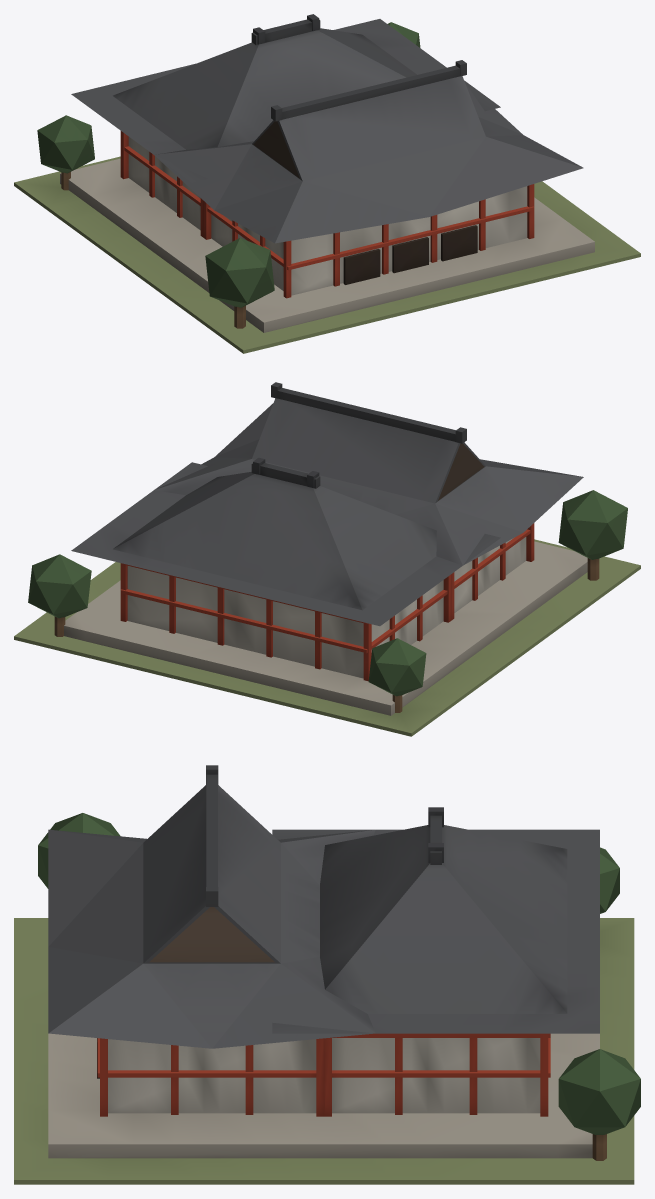
Rendered from hokkedo.glb.
3 renders of one model, top to bottom at view 1: azimuth 30°, elevation 25°; view 2: azimuth 150°, elevation 25°; view 3: azimuth 270°, elevation 25°, orthographic. The views are drawn at different scales.
Parts seen in each view (by area): view 1: p2_roofs, p0_grounds, p1_halls; view 2: p2_roofs, p0_grounds, p1_halls; view 3: p2_roofs, p0_grounds, p1_halls.
Part boxes in pixels (bbox=[...]): p2_roofs: bbox=[37, 14, 583, 328]; p0_grounds: bbox=[14, 156, 640, 353]; p1_halls: bbox=[120, 131, 534, 298]; p2_roofs: bbox=[28, 382, 627, 712]; p0_grounds: bbox=[14, 539, 640, 736]; p1_halls: bbox=[120, 523, 534, 681]; p2_roofs: bbox=[38, 765, 640, 1160]; p0_grounds: bbox=[14, 918, 634, 1184]; p1_halls: bbox=[97, 1033, 550, 1116].
Bounding box in the file's own units: 36.74 × 14.5 × 36.39.
